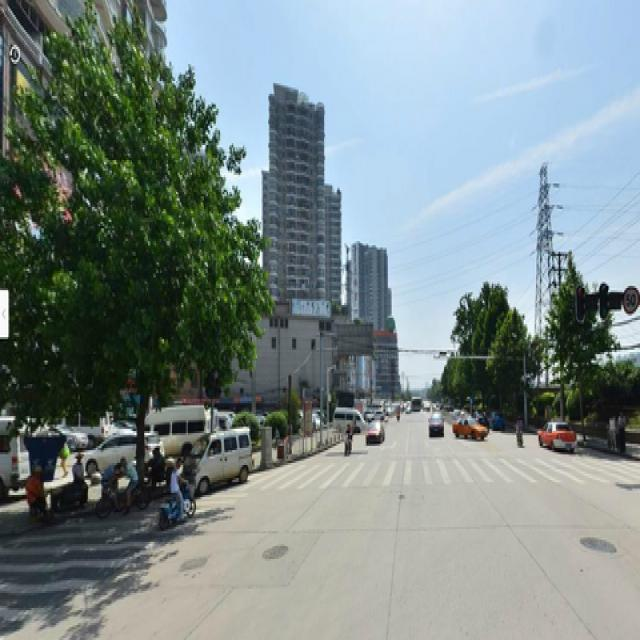meta: (56, 47, 236, 484)
